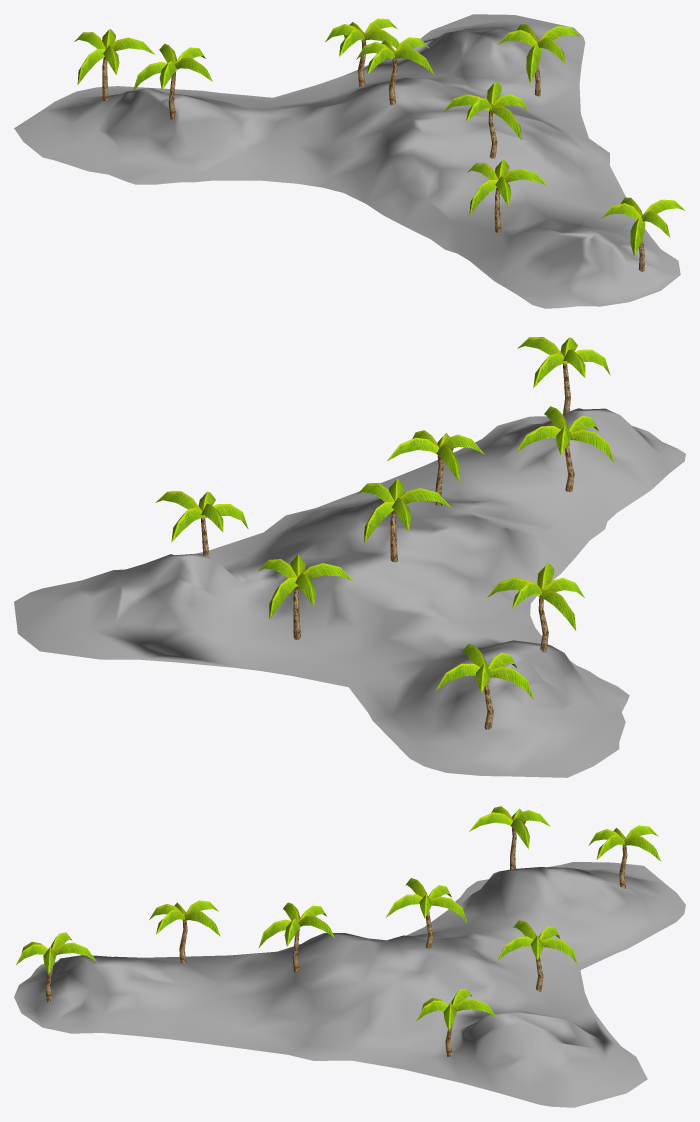
File: Desert_Island_11.fbx
The picture shows the model from 3 angles, top to bottom: view 1: azimuth 30°, elevation 25°; view 2: azimuth 150°, elevation 25°; view 3: azimuth 270°, elevation 25°; orthographic projection. The views are drawn at different scales.
Parts seen in each view (by area): view 1: desert_island_11; view 2: desert_island_11; view 3: desert_island_11.
Boxes of the visible parts, x1,y1,x2,y2 form: desert_island_11: [14, 14, 684, 308]; desert_island_11: [14, 337, 685, 777]; desert_island_11: [14, 806, 685, 1107].
Size of the model in its own units: 0.5198 by 0.1057 by 0.6001.
2 materials, 1 textured.
